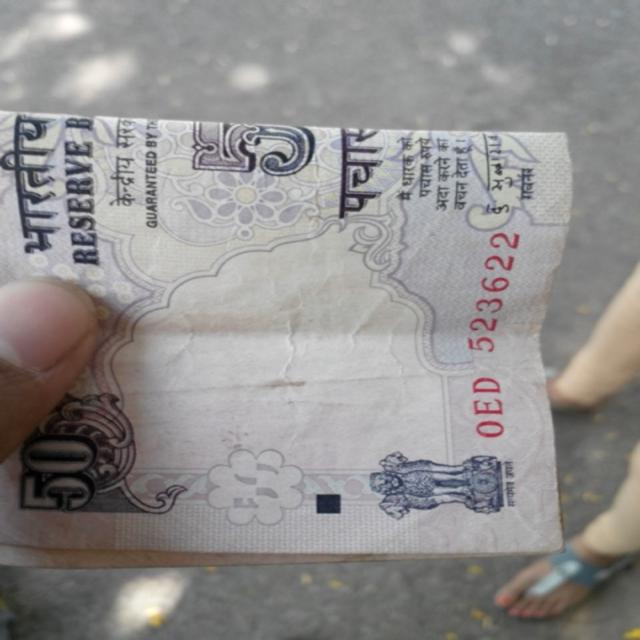50rs: (0, 101, 595, 561)
